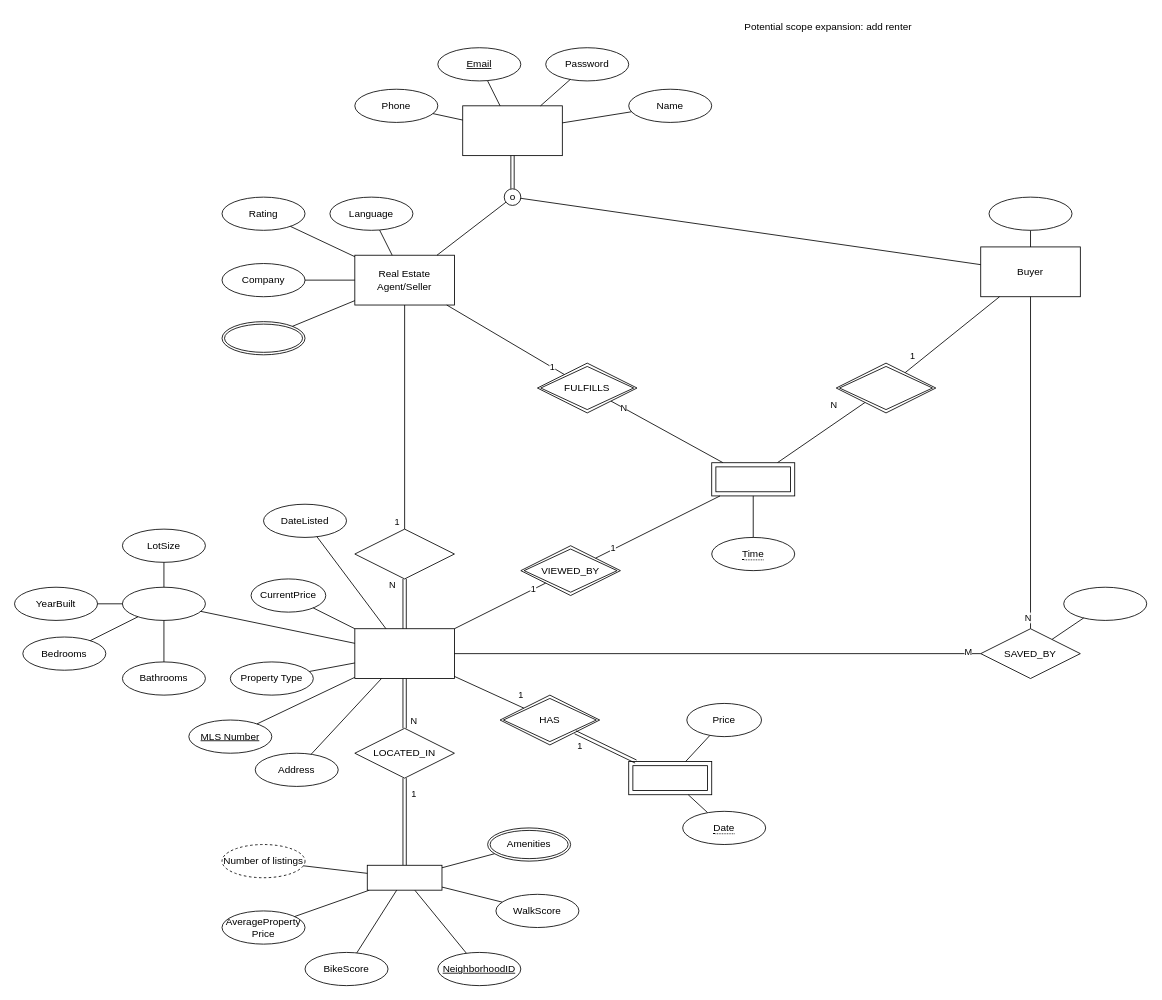
The diagram is 1162 pixels wide and 1000 high, and some of its shapes have lost their labels. Here are the shapes that lost their labels. From the top down, the centre of each, then its label:
point 512,130: WebsiteUser
point 1030,213: Screenname
point 263,338: Listings
point 885,387: SCHEDULED_BY
point 753,479: Appointment
point 404,553: SELLS
point 163,603: Features
point 1105,603: DateSaved
point 404,653: Property
point 670,778: PriceHistory
point 404,877: Neighborhood
